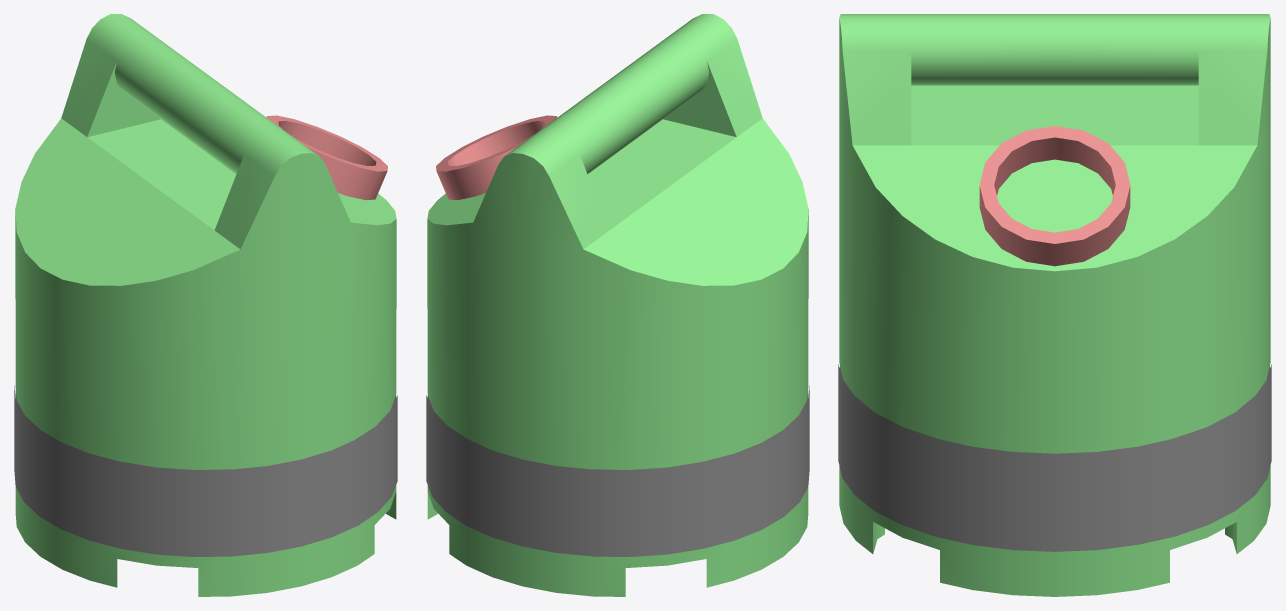
File: SM_PumpZylinder_2x2x2.gltf
3 views of the same model, side by side, from view 1: azimuth 30°, elevation 25°; view 2: azimuth 150°, elevation 25°; view 3: azimuth 270°, elevation 25° (orthographic). The views are drawn at different scales.
Visible parts, largest first — view 1: SM_PumpZylinder_2x2x2; view 2: SM_PumpZylinder_2x2x2; view 3: SM_PumpZylinder_2x2x2.
Boxes of the visible parts, x1,y1,x2,y2 form: SM_PumpZylinder_2x2x2: (14, 14, 397, 596); SM_PumpZylinder_2x2x2: (426, 14, 809, 596); SM_PumpZylinder_2x2x2: (838, 14, 1271, 596).
Size of the model in its own units: 0.6159 by 0.75 by 0.6033.
